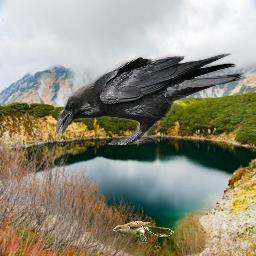Crow: (56, 53, 244, 145)
Cuckoo: (112, 221, 174, 243)
